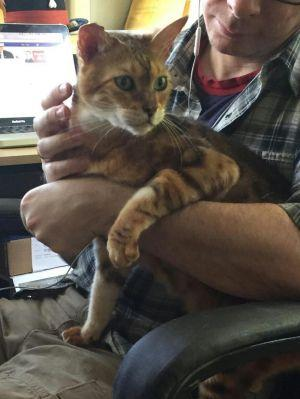bengal: (73, 13, 185, 150)
